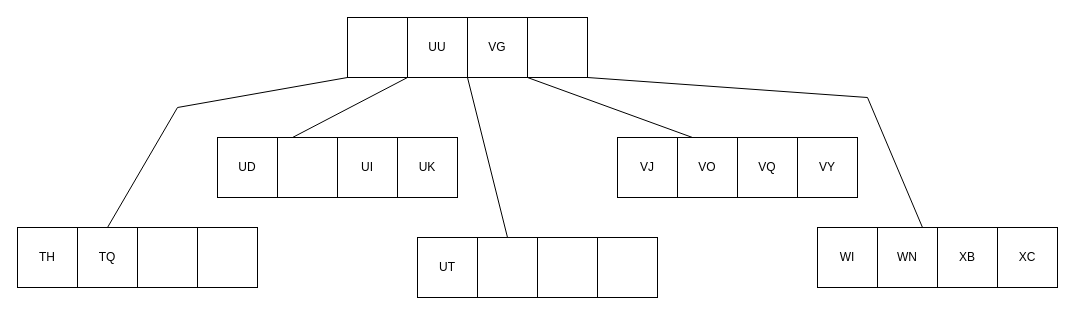
The diagram is 1075 pixels wide and 315 high, and some of its shapes have lost their labels. Each missing label, with the box of its shape:
UB: (346, 16, 408, 78)
UF: (276, 136, 338, 198)
VE: (476, 236, 538, 298)
VR: (526, 16, 588, 78)
